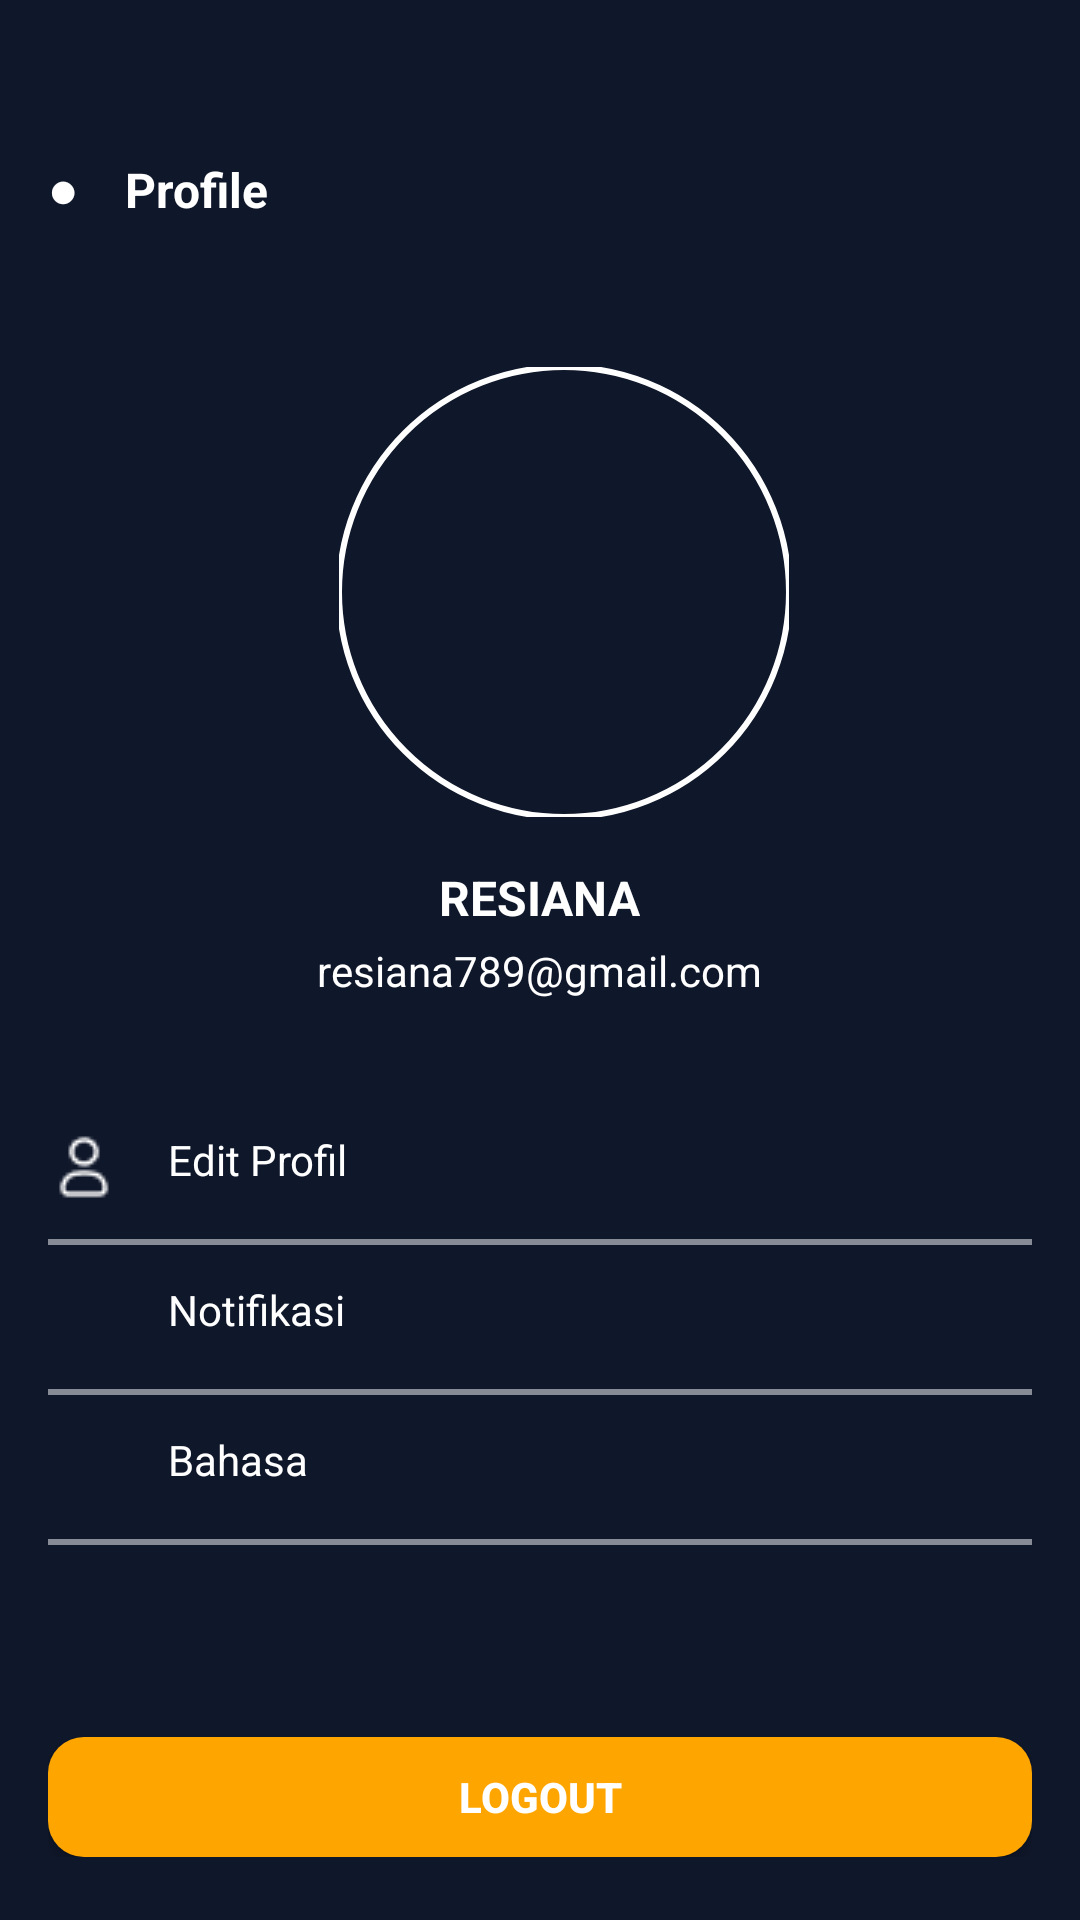

Screen size 1080x1920. Icon name, then its center in pixels as (x=x, y=y):
profile: (x=84, y=1167)
